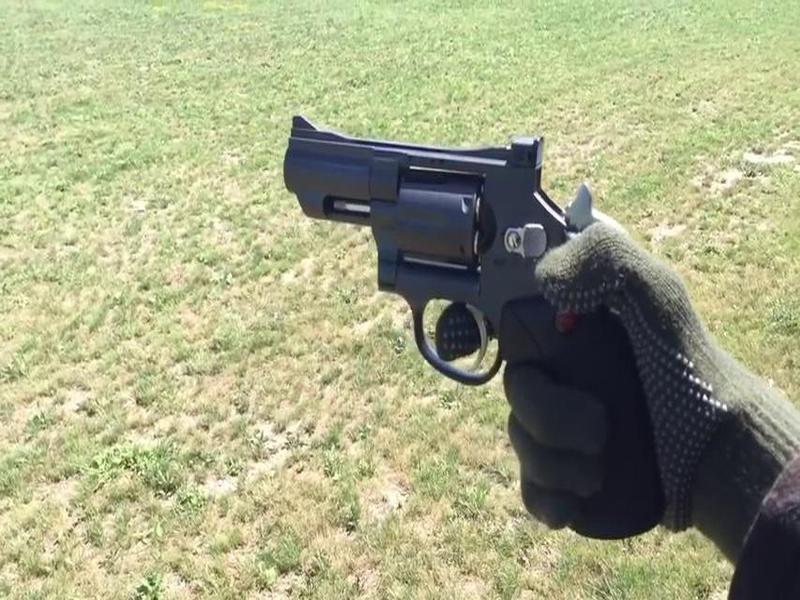Revolver: (280, 99, 643, 465)
